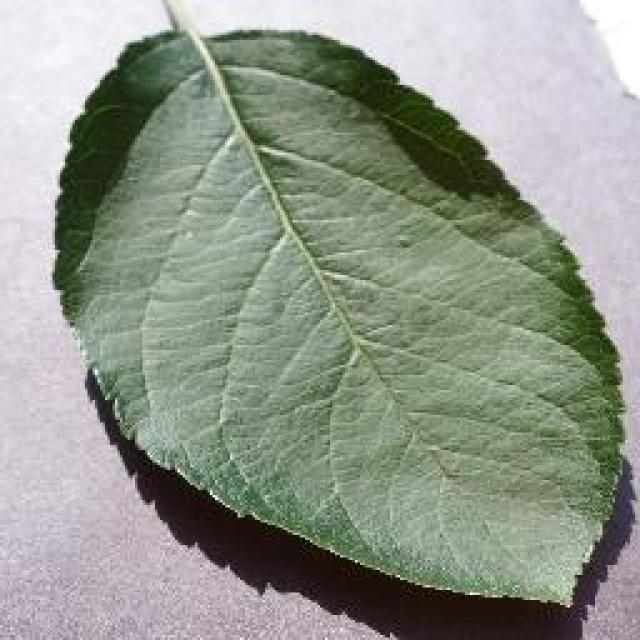apple healthy: (50, 2, 630, 610)
